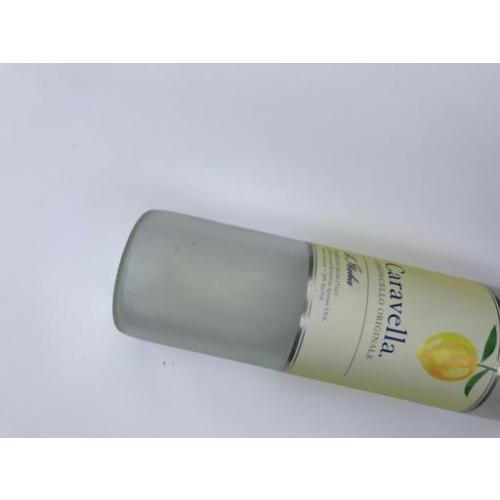glass: (114, 209, 500, 420)
